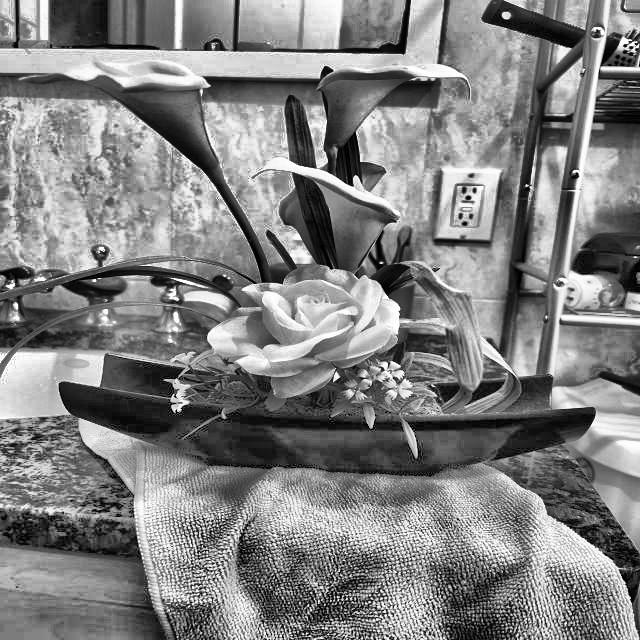plants: (86, 46, 557, 473)
